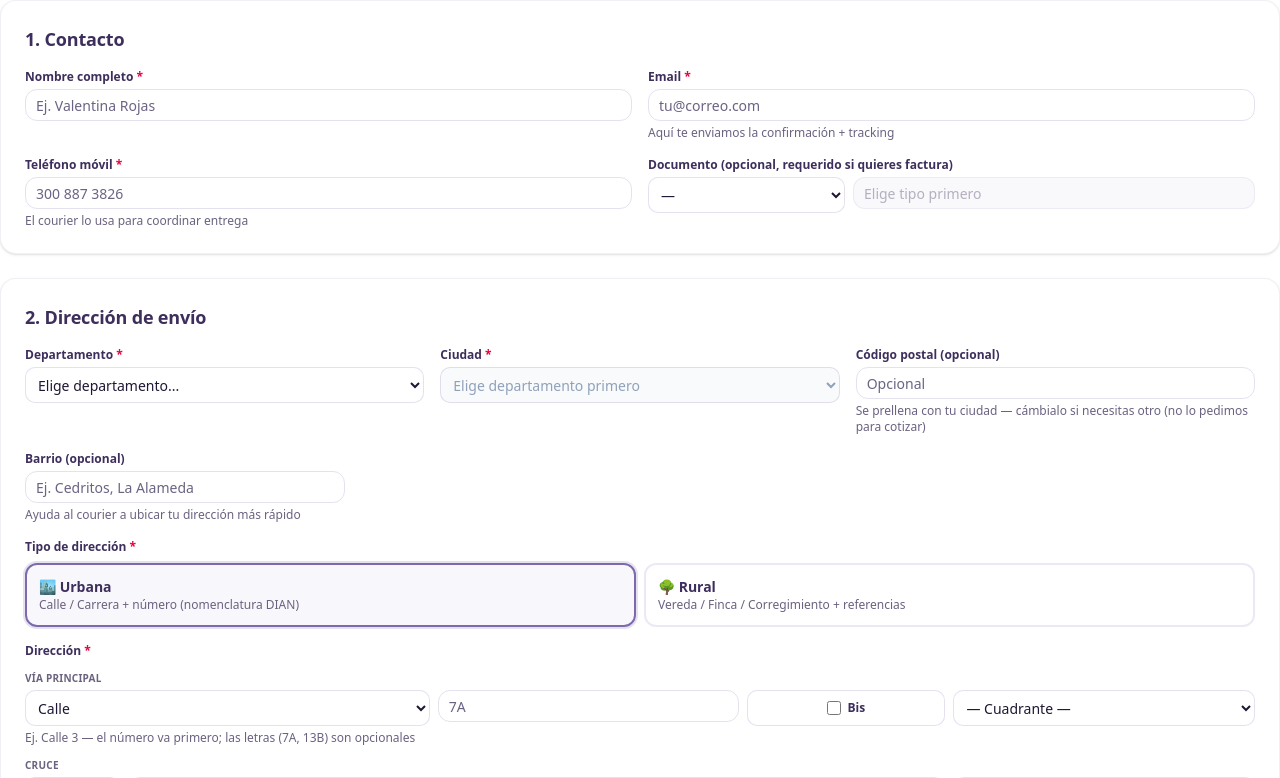
DatosForm — código postal derivado de la ciudad (owner 2026-10-07) › elegir Medellín prellena su CP real (050001), no el de Bogotá
Select "Antioquia" in the dropdown with id "deptCode" at (225, 385), box [25, 367, 424, 403]
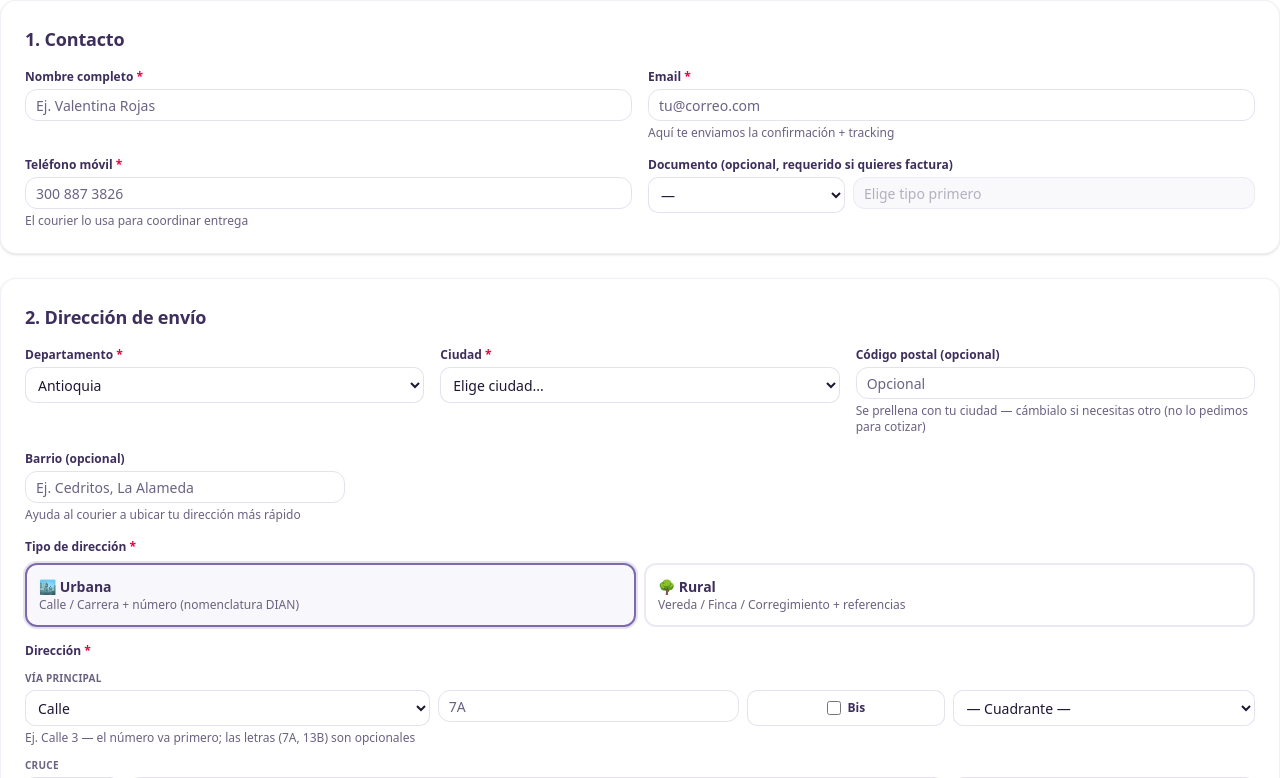
Select "Medellín" in the dropdown with id "cityCode" at (640, 385), box [440, 367, 840, 403]
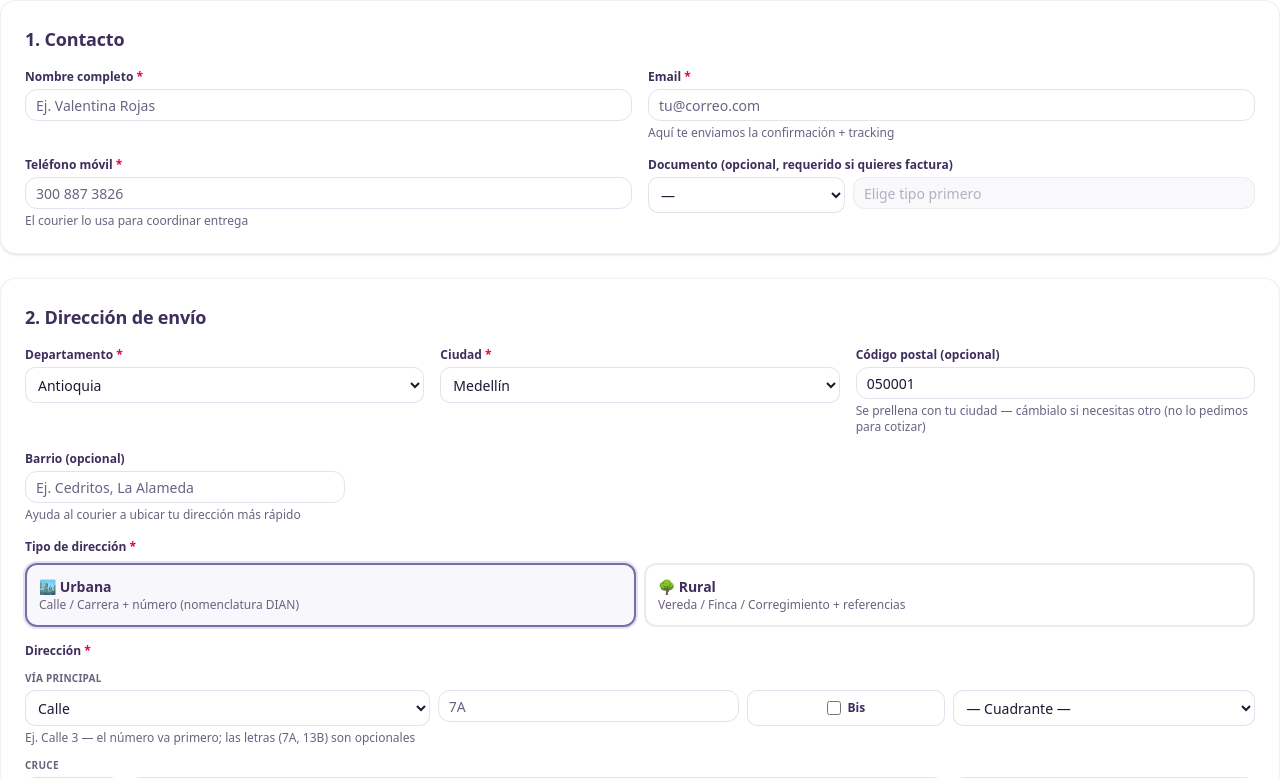
Now the field with id "zip" holds "050001", box [856, 367, 1255, 399]
